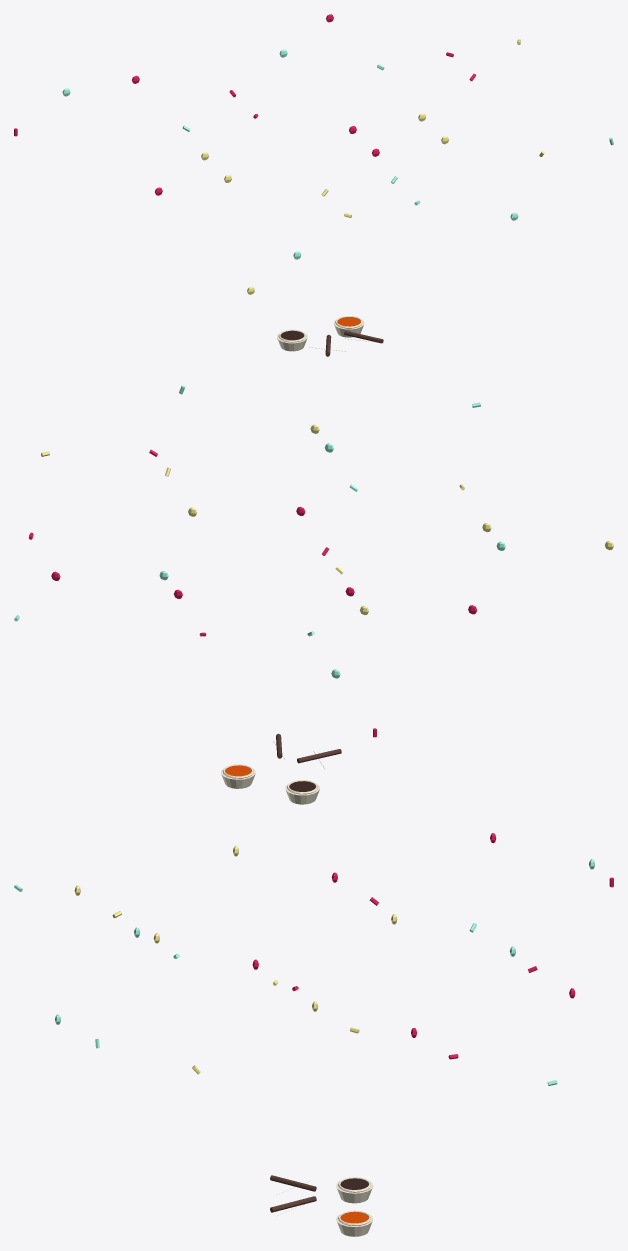
File: churus_postres_r5.glb
The picture shows the model from 3 angles, top to bottom: view 1: azimuth 30°, elevation 25°; view 2: azimuth 150°, elevation 25°; view 3: azimuth 270°, elevation 25°; orthographic projection. The views are drawn at different scales.
Visible parts, largest first — view 1: Cerámica marfil; view 2: Cerámica marfil; view 3: Cerámica marfil, Canela.
Boxes of the visible parts, x1,y1,x2,y2 form: Cerámica marfil: [277, 316, 375, 351]; Cerámica marfil: [221, 741, 325, 804]; Cerámica marfil: [276, 1177, 373, 1236]; Canela: [270, 1175, 316, 1212].
Bounding box in the file's own units: 28.31 × 17.05 × 30.33.
